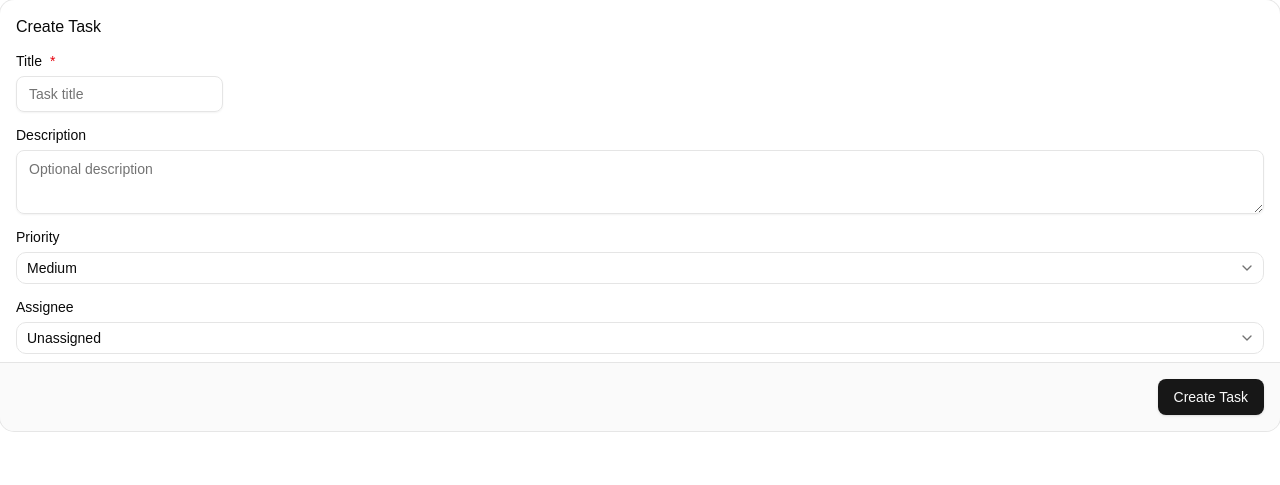
Test: TaskForm client-side validation › clears error when typing in title after validation error
Submit the form
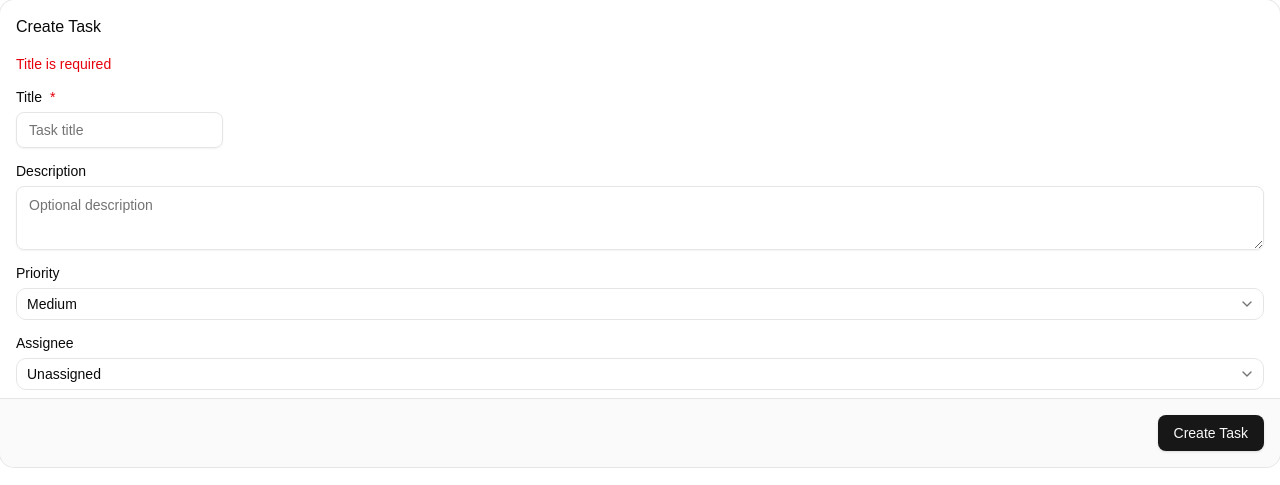
Now the text "Title is required" is shown, box [16,56,111,72]
Type "A" into the field labelled "Title *".
click(120, 130); type("A")  # box [16,112,223,148]
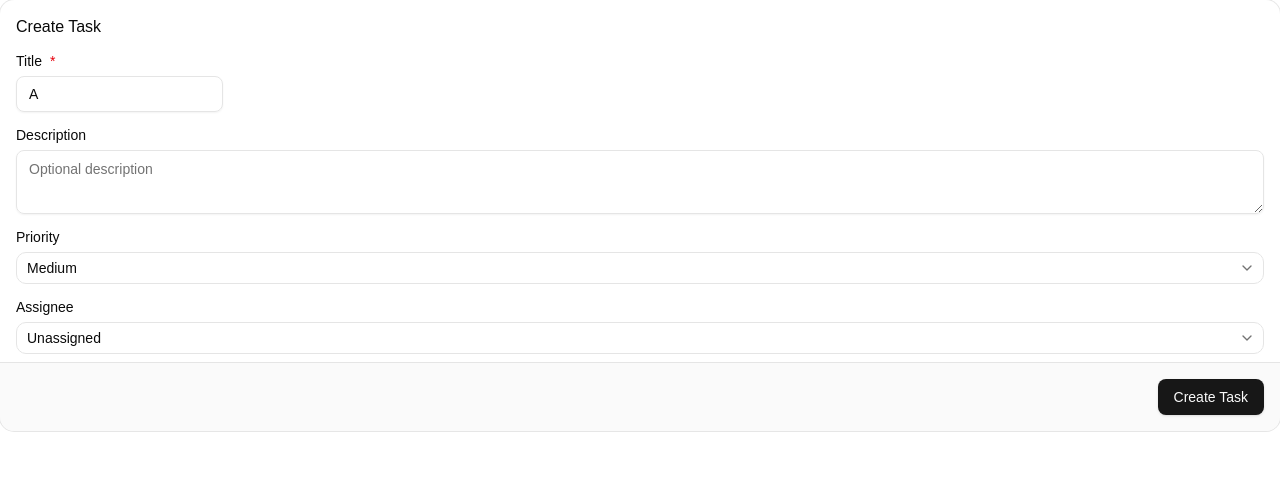
Now the text "Title is required" is gone
